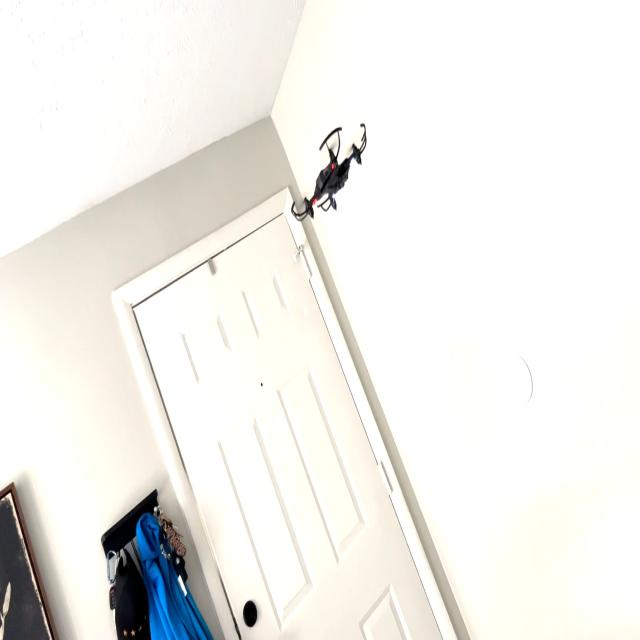drone: (287, 116, 373, 228)
